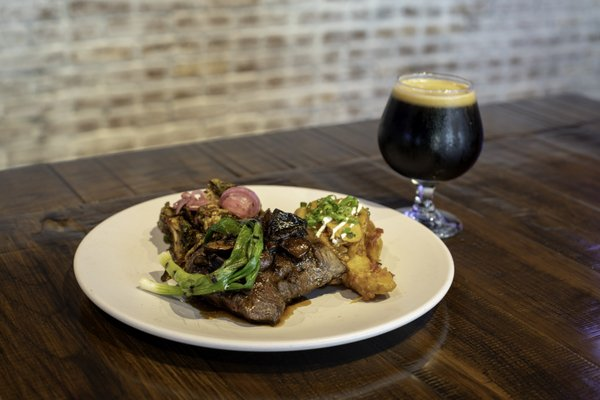curry: (0, 96, 600, 400)
sandwich: (376, 70, 484, 239)
